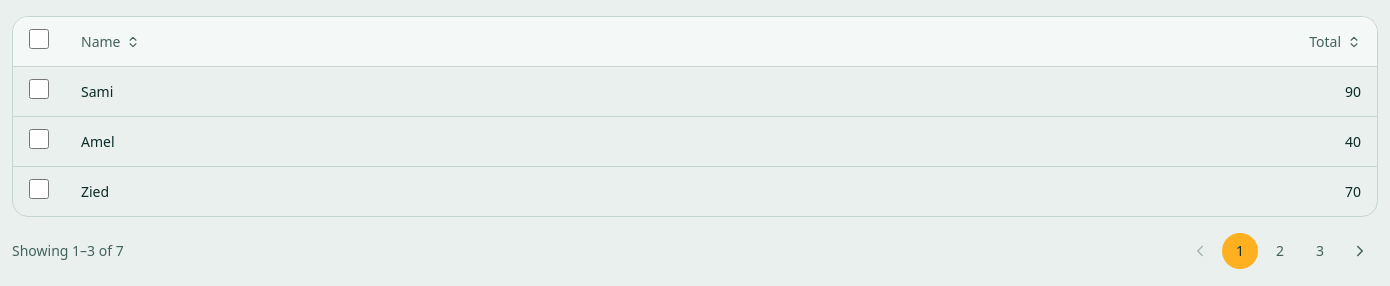
it: data table › sorts by a column and announces the sort direction
This screenshot has width=1390, height=286.
Expected: the row "Sami 90" is shown, [13,66,1377,116]
Click the button "Name".
click(111, 42)  # box [81,32,140,52]
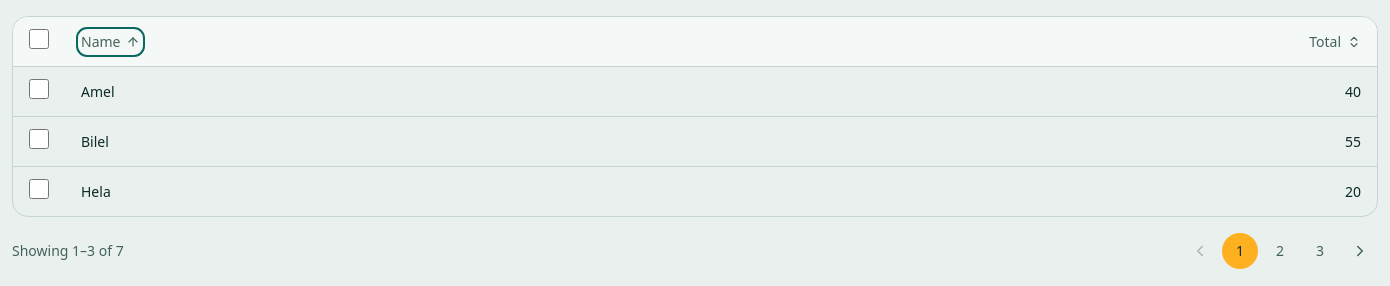
Expected: the row "Amel 40" is shown, [13,66,1377,116]
Now the column heading "Name" has attribute aria-sort="ascending", box [65,17,750,66]
Click the button "Name".
click(111, 42)  # box [81,32,140,52]
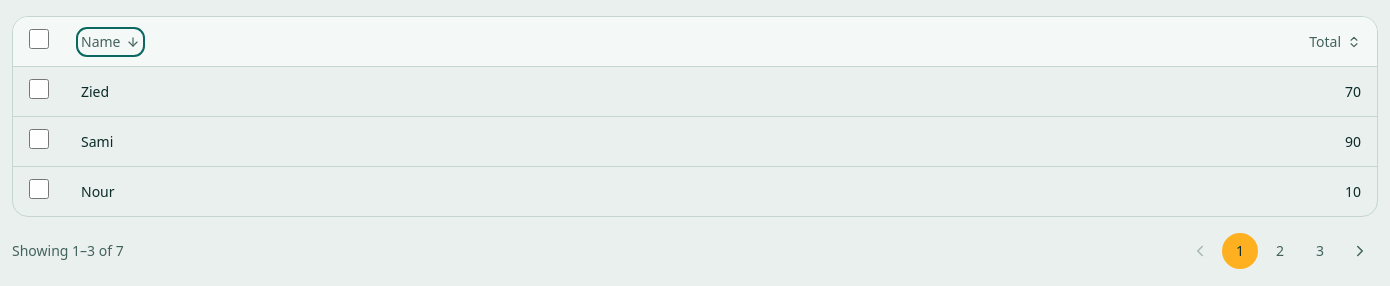
Now the row "Zied 70" is shown, box [13,66,1377,116]
